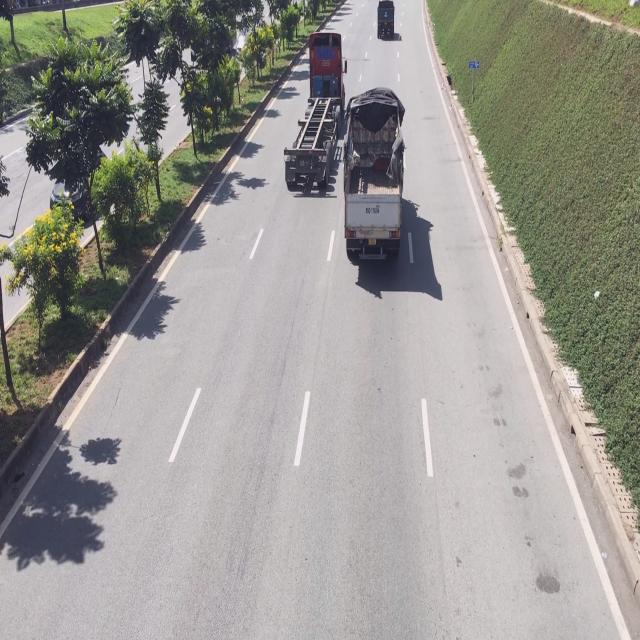truck: (342, 89, 405, 265), (282, 28, 346, 195), (376, 1, 396, 43)
